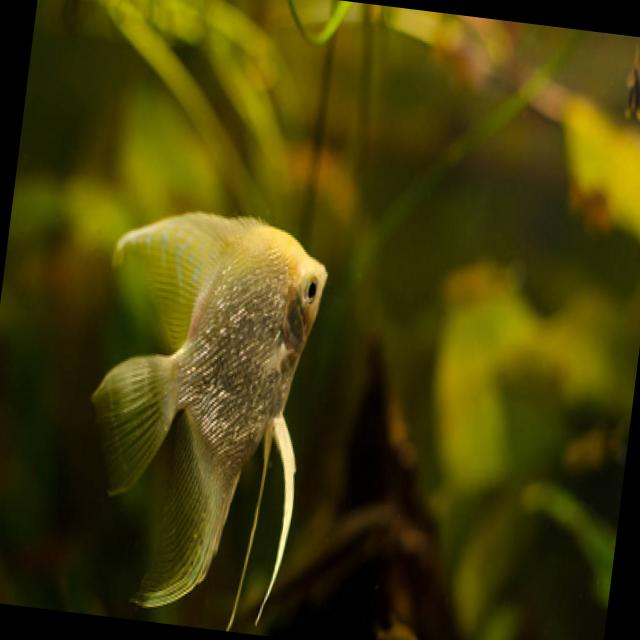AngelFish: (67, 202, 330, 631)
